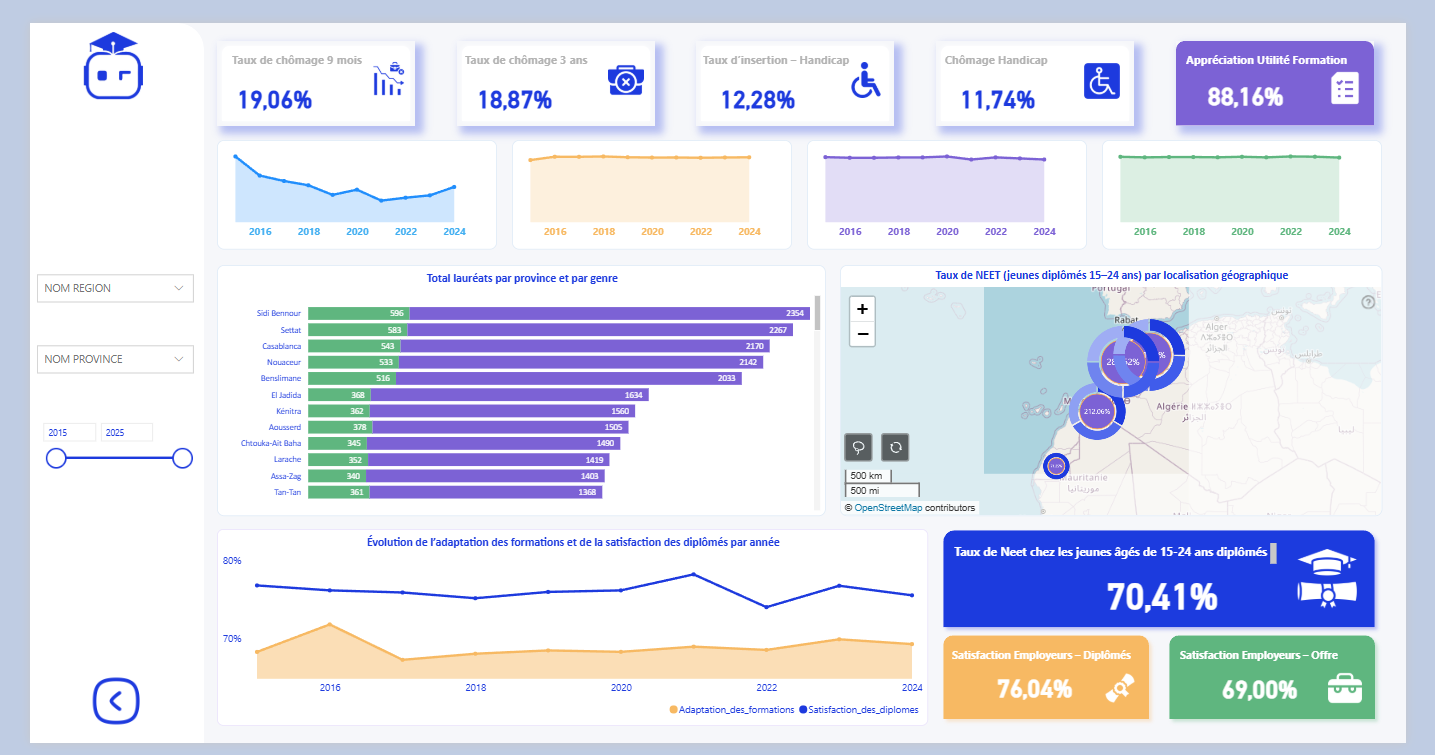

The dashboard page shown, as its layout file describes it:
{"tool":"powerbi","page":{"name":"DASH_2","canvas":[1720,900],"ordinal":1},"visuals":[{"type":"shape","box":[233.8,22.2,247.5,106.2],"z":0,"group":"g4"},{"type":"group","id":"g1","title":"Groupe 1","box":[533.3,22.2,247.5,106.2],"z":0,"group":"g7"},{"type":"shape","box":[533.3,22.2,247.5,106.2],"z":0,"group":"g1"},{"type":"group","id":"g2","title":"Groupe 1","box":[832.8,22.2,247.5,106.2],"z":0,"group":"g8"},{"type":"shape","box":[832.8,22.2,247.5,106.2],"z":0,"group":"g2"},{"type":"shape","box":[1133,22.2,247.5,106.2],"z":0,"group":"g6"},{"type":"shape","box":[1432.5,22.5,247.5,106],"z":0,"group":"g5"},{"type":"lineChart","fields":{"Category":["DATE ENQUETE.Annee"],"Y":["Measures.Taux d’emploi des lauréats de la FP"]},"box":[233.8,146,349.9,136.9],"z":0,"group":"g11"},{"type":"SmartFilterBySQLBI1458262140625","fields":{"Values":["DIM PROVINCE.NOM REGION"]},"box":[3.8,306,207.5,156.2],"z":0,"group":"g12"},{"type":"group","id":"g3","title":"Groupe 8","box":[1132.5,625,557.5,253.8],"z":0},{"type":"group","id":"g4","title":"Groupe 1","box":[233.8,22.2,247.5,106.2],"z":1000},{"type":"card","fields":{"Values":["Measures.Degré d’appréciation "]},"box":[1458.3,68,121.2,44.9],"z":1000,"group":"g5"},{"type":"lineChart","fields":{"Category":["DATE ENQUETE.Annee"],"Y":["Measures.Taux de chômage 36 m "]},"box":[602.6,146,349.9,136.9],"z":1000,"group":"g11"},{"type":"SmartFilterBySQLBI1458262140625","fields":{"Values":["DIM PROVINCE.NOM PROVINCE"]},"box":[3.8,394.8,207.5,156.2],"z":1000,"group":"g12"},{"type":"shape","box":[0,0,217.5,900],"z":2000},{"type":"textbox","box":[1439.4,31,223.8,48.8],"z":2000,"group":"g5"},{"type":"lineChart","fields":{"Category":["DATE ENQUETE.Annee"],"Y":["Measures.Handicap_9_mois"]},"box":[971.4,146,349.9,136.9],"z":2000,"group":"g11"},{"type":"slicer","fields":{"Values":["DATE ENQUETE.Annee"]},"box":[3.8,489.8,207.5,75],"z":2000,"group":"g12"},{"type":"card","fields":{"Values":["Measures.Taux de chômage 9m "]},"box":[247.9,71,116.2,45],"z":3000,"group":"g4"},{"type":"card","fields":{"Values":["Measures.Taux de chômage 36 m "]},"box":[547.4,71,116.2,45],"z":3000,"group":"g1"},{"type":"card","fields":{"Values":["Measures.Handicap_9_mois"]},"box":[849,71,121.2,45],"z":3000,"group":"g2"},{"type":"card","fields":{"Values":["Measures.Handicap_chômage _9_mois"]},"box":[1149.2,71,121.2,45],"z":3000,"group":"g6"},{"type":"lineChart","fields":{"Category":["DATE ENQUETE.Annee"],"Y":["Measures.Degré d’appréciation "]},"box":[1340.2,146,349.9,136.9],"z":3000,"group":"g11"},{"type":"lineChart","title":"Évolution de l’adaptation des formations et de la satisfaction des diplômés par année","fields":{"Category":["DATE ENQUETE.Annee"],"Y":["Measures.Adaptation_des_formations","Measures.Satisfaction_des_diplomes"]},"box":[233.8,632.5,888.8,246.2],"z":3000},{"type":"group","id":"g5","title":"Groupe 1","box":[1432.5,22.5,247.5,106],"z":4000,"group":"g10"},{"type":"textbox","box":[247.9,31,190,38.8],"z":4000,"group":"g4"},{"type":"textbox","box":[538,31,196.2,38.8],"z":4000,"group":"g1"},{"type":"textbox","box":[836,31,236.2,50],"z":4000,"group":"g2"},{"type":"textbox","box":[1138.9,31,216.2,50],"z":4000,"group":"g6"},{"type":"card","fields":{"Values":["Measures.Satisfaction_des_diplomes"]},"box":[1197.5,807.5,116.2,45],"z":4000},{"type":"ZoomChartsDrillDownMapPro6AFEEB10499543F282BD06EF315D5EAA","title":"Taux de NEET (jeunes diplômés 15–24 ans) par localisation géographique","fields":{"latitude":["DIM PROVINCE.Lat"],"longitude":["DIM PROVINCE.Lon"],"value":["Measures.Taux de Neet chez les jeunes âgés de 15‐24 "]},"box":[1012.5,302.5,677.5,313.8],"z":5000},{"type":"group","id":"g6","title":"Groupe 1","box":[1133,22.2,247.5,106.2],"z":5006,"group":"g9"},{"type":"textbox","box":[1147.5,776.2,260,31.2],"z":6000},{"type":"textbox","box":[1145.7,645,417.1,41.4],"z":7000},{"type":"card","fields":{"Values":["Measures.Taux de Neet chez les jeunes âgés de 15‐24 "]},"box":[1337.5,680,155,62.5],"z":8000},{"type":"image","box":[46.2,6.2,115,93.8],"z":9000},{"type":"group","id":"g7","title":"Groupe 2","box":[533.3,22.2,247.5,106.2],"z":10000},{"type":"group","id":"g8","title":"Groupe 3","box":[832.8,22.2,247.5,106.2],"z":11000},{"type":"group","id":"g9","title":"Groupe 4","box":[1133,22.2,247.5,106.2],"z":12000},{"type":"group","id":"g10","title":"Groupe 5","box":[1432.5,22.5,247.5,106],"z":13000},{"type":"shape","box":[1132.5,625,557.5,139.4],"z":13000,"group":"g3"},{"type":"group","id":"g11","title":"Groupe 6","box":[233.8,146,1456.2,136.9],"z":14000},{"type":"shape","box":[1132.5,756,275.3,122.7],"z":14000,"group":"g3"},{"type":"barChart","title":"Total lauréats par province et par genre","fields":{"Category":["DIM PROVINCE.NOM PROVINCE"],"Y":["Measures.total  lauréats"],"Series":["Dim ENQUETE LAUREAT.Sex T"]},"box":[233.8,302.5,761.2,313.8],"z":15000},{"type":"shape","box":[1414.7,756,275.3,122.7],"z":15000,"group":"g3"},{"type":"image","box":[1616.3,53.7,55,55],"z":15007,"group":"g10"},{"type":"group","id":"g12","title":"Groupe 7","box":[3.8,306,207.5,258.8],"z":16000},{"type":"image","box":[58.8,807.5,97.5,80],"z":17000},{"type":"card","fields":{"Values":["Measures.Adaptation_des_formations"]},"box":[1478.8,808.8,116.2,45],"z":18000},{"type":"textbox","box":[1432.5,776.2,260,31.2],"z":19000},{"type":"image","box":[420,42.5,55,55],"z":20000},{"type":"image","box":[717.5,43.8,55,55],"z":21000},{"type":"image","box":[1312.5,45,55,55],"z":22000},{"type":"image","box":[1017.5,43.8,55,55],"z":23000},{"type":"image","box":[1572.5,652.5,98.8,83.8],"z":24000},{"type":"image","box":[1335,803.8,55,55],"z":25000},{"type":"image","box":[1616.2,803.8,55,55],"z":26000}]}

Visuals, with their boxes in screenshot pixels (x1, y1, x2, y2), scaled from the page's 1720x900 canvas onto the 1435x755 screenshot:
shape: (195,19,402,108)
"Groupe 1" group: (445,19,651,108)
shape: (445,19,651,108)
"Groupe 1" group: (695,19,901,108)
shape: (695,19,901,108)
shape: (945,19,1152,108)
shape: (1195,19,1402,108)
lineChart - DATE ENQUETE.Annee x Measures.Taux d’emploi des lauréats de la FP: (195,122,487,237)
SmartFilterBySQLBI1458262140625 - DIM PROVINCE.NOM REGION: (3,257,176,388)
"Groupe 8" group: (945,524,1410,737)
"Groupe 1" group: (195,19,402,108)
card - Measures.Degré d’appréciation : (1217,57,1318,95)
lineChart - DATE ENQUETE.Annee x Measures.Taux de chômage 36 m : (503,122,795,237)
SmartFilterBySQLBI1458262140625 - DIM PROVINCE.NOM PROVINCE: (3,331,176,462)
shape: (0,0,181,754)
textbox: (1201,26,1388,67)
lineChart - DATE ENQUETE.Annee x Measures.Handicap_9_mois: (810,122,1102,237)
slicer - DATE ENQUETE.Annee: (3,411,176,474)
card - Measures.Taux de chômage 9m : (207,60,304,97)
card - Measures.Taux de chômage 36 m : (457,60,554,97)
card - Measures.Handicap_9_mois: (708,60,809,97)
card - Measures.Handicap_chômage _9_mois: (959,60,1060,97)
lineChart - DATE ENQUETE.Annee x Measures.Degré d’appréciation : (1118,122,1410,237)
"Évolution de l’adaptation des formations et de la satisfaction des diplômés par année" lineChart: (195,531,937,737)
"Groupe 1" group: (1195,19,1402,108)
textbox: (207,26,365,59)
textbox: (449,26,613,59)
textbox: (697,26,895,68)
textbox: (950,26,1131,68)
card - Measures.Satisfaction_des_diplomes: (999,677,1096,715)
"Taux de NEET (jeunes diplômés 15–24 ans) par localisation géographique" ZoomChartsDrillDownMapPro6AFEEB10499543F282BD06EF315D5EAA: (845,254,1410,517)
"Groupe 1" group: (945,19,1152,108)
textbox: (957,651,1174,677)
textbox: (956,541,1304,576)
card - Measures.Taux de Neet chez les jeunes âgés de 15‐24 : (1116,570,1245,623)
image: (39,5,134,84)
"Groupe 2" group: (445,19,651,108)
"Groupe 3" group: (695,19,901,108)
"Groupe 4" group: (945,19,1152,108)
"Groupe 5" group: (1195,19,1402,108)
shape: (945,524,1410,641)
"Groupe 6" group: (195,122,1410,237)
shape: (945,634,1175,737)
"Total lauréats par province et par genre" barChart: (195,254,830,517)
shape: (1180,634,1410,737)
image: (1348,45,1394,91)
"Groupe 7" group: (3,257,176,474)
image: (49,677,130,745)
card - Measures.Adaptation_des_formations: (1234,678,1331,716)
textbox: (1195,651,1412,677)
image: (350,36,396,82)
image: (599,37,644,83)
image: (1095,38,1141,84)
image: (849,37,895,83)
image: (1312,547,1394,618)
image: (1114,674,1160,720)
image: (1348,674,1394,720)
